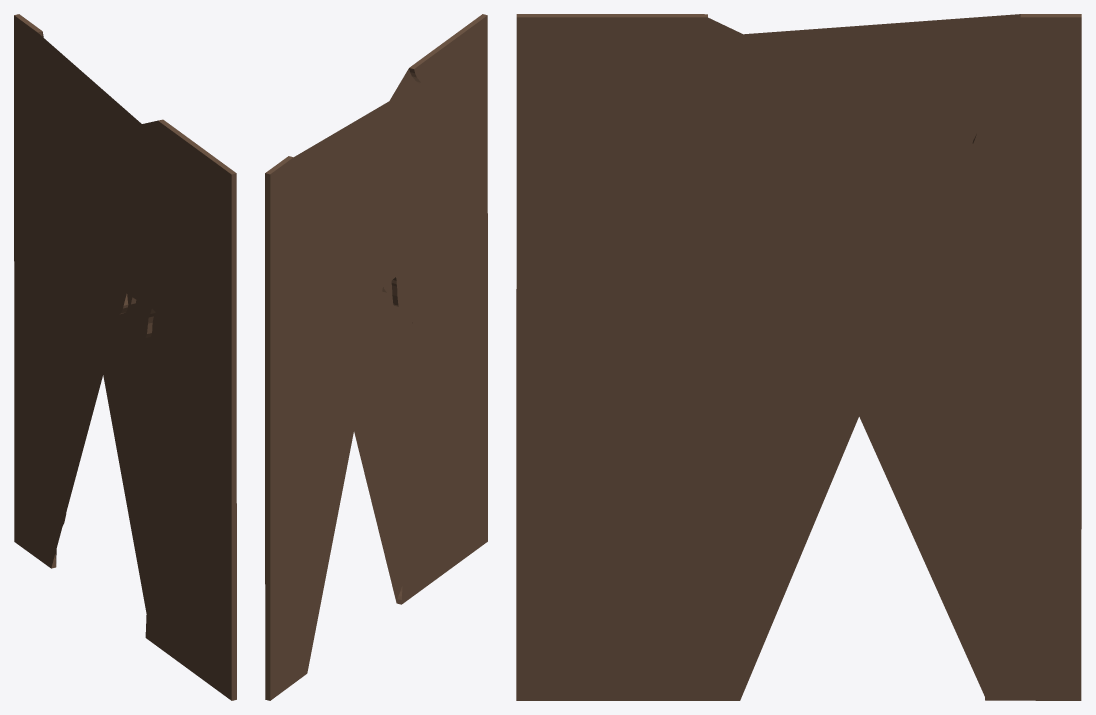
The picture shows the model from 3 angles, left to right: view 1: azimuth 30°, elevation 25°; view 2: azimuth 150°, elevation 25°; view 3: azimuth 270°, elevation 25°; orthographic projection. The views are drawn at different scales.
Parts seen in each view (by area): view 1: Plane.084; view 2: Plane.084; view 3: Plane.084.
Part boxes in pixels (<box>): Plane.084: <box>14,14,236,700</box>; Plane.084: <box>265,14,487,700</box>; Plane.084: <box>516,14,1081,700</box>.
Bounding box in the file's own units: 12.11 × 1197 × 897.
